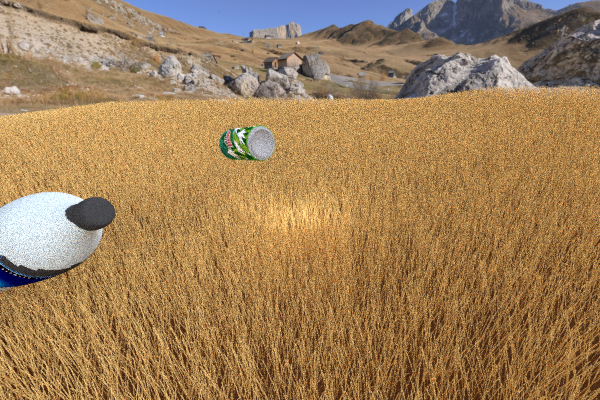bottle: (0, 192, 115, 295)
can: (402, 123, 465, 163), (218, 125, 275, 160)
